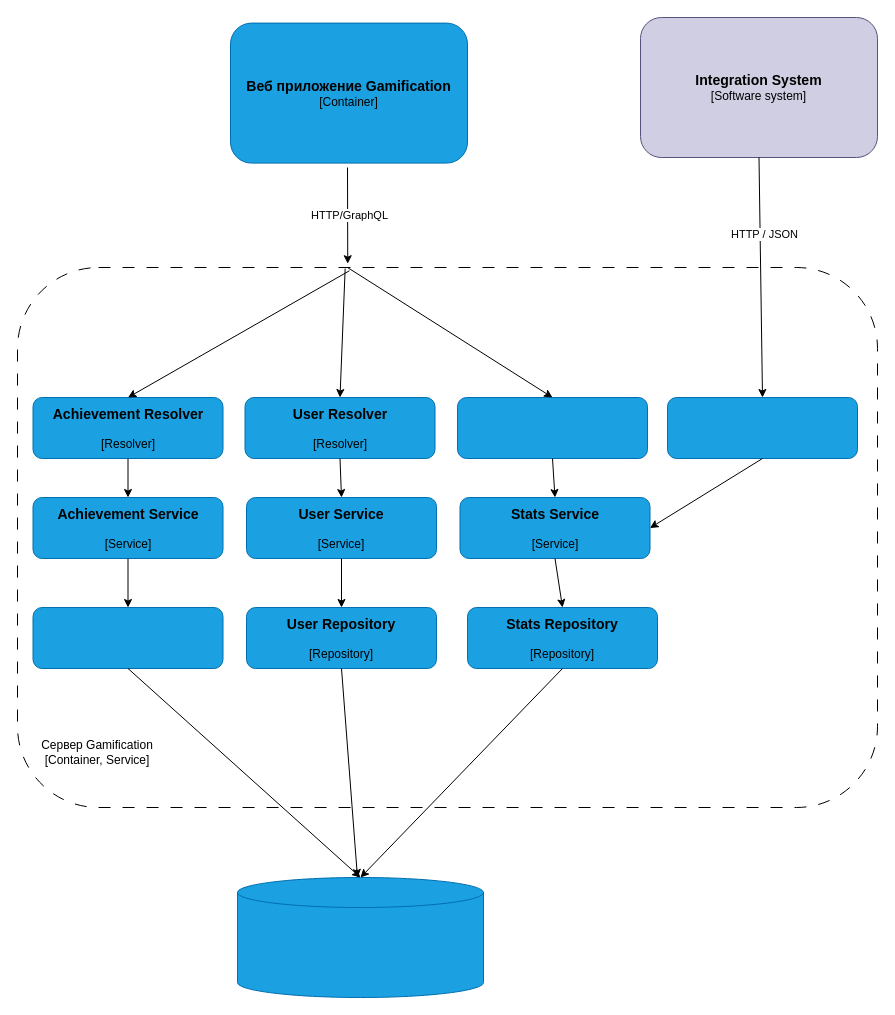
Image size: 895x1015. Some labels were removed from this diagram. Each missing label, with the centre of its shape:
Achievement Repository [Repository]: the point at 127,637
Stats Controller [Controller]: the point at 762,427
Stats Resolver [Resolver]: the point at 552,427
User Repository [Container, PGSQL]: the point at 360,937
